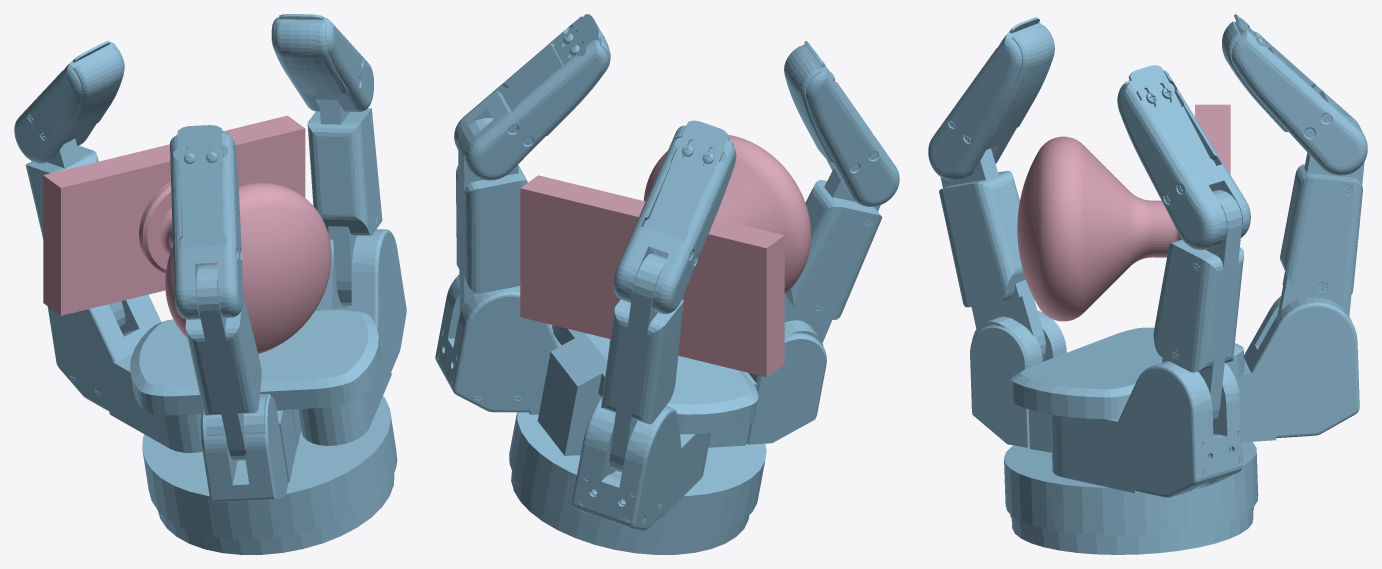
3 views of the same model, side by side, from view 1: azimuth 30°, elevation 25°; view 2: azimuth 150°, elevation 25°; view 3: azimuth 270°, elevation 25° (orthographic).
Parts seen in each view (by area): view 1: world, door_knob.stl; view 2: world, door_knob.stl; view 3: world, door_knob.stl.
Boxes of the visible parts, x1=… form: world: x1=14, y1=14, x2=406, y2=554; door_knob.stl: x1=43, y1=115, x2=331, y2=353; world: x1=435, y1=14, x2=899, y2=554; door_knob.stl: x1=520, y1=135, x2=810, y2=377; world: x1=928, y1=14, x2=1367, y2=554; door_knob.stl: x1=1017, y1=104, x2=1230, y2=321.
Bounding box in the file's own units: 0.1414 × 0.1899 × 0.1545.
